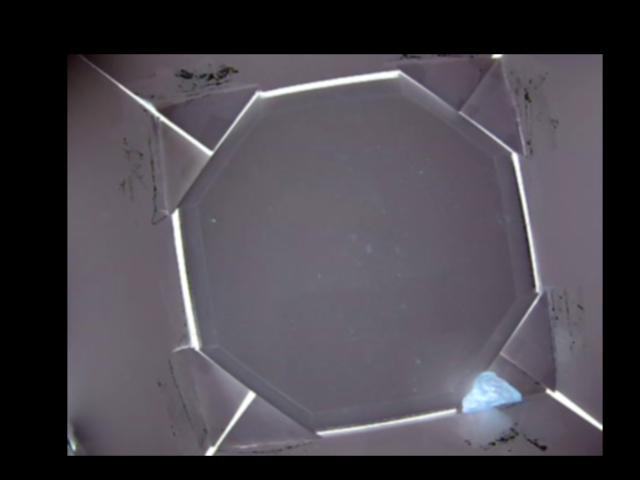Brisk: (461, 371, 522, 408)
